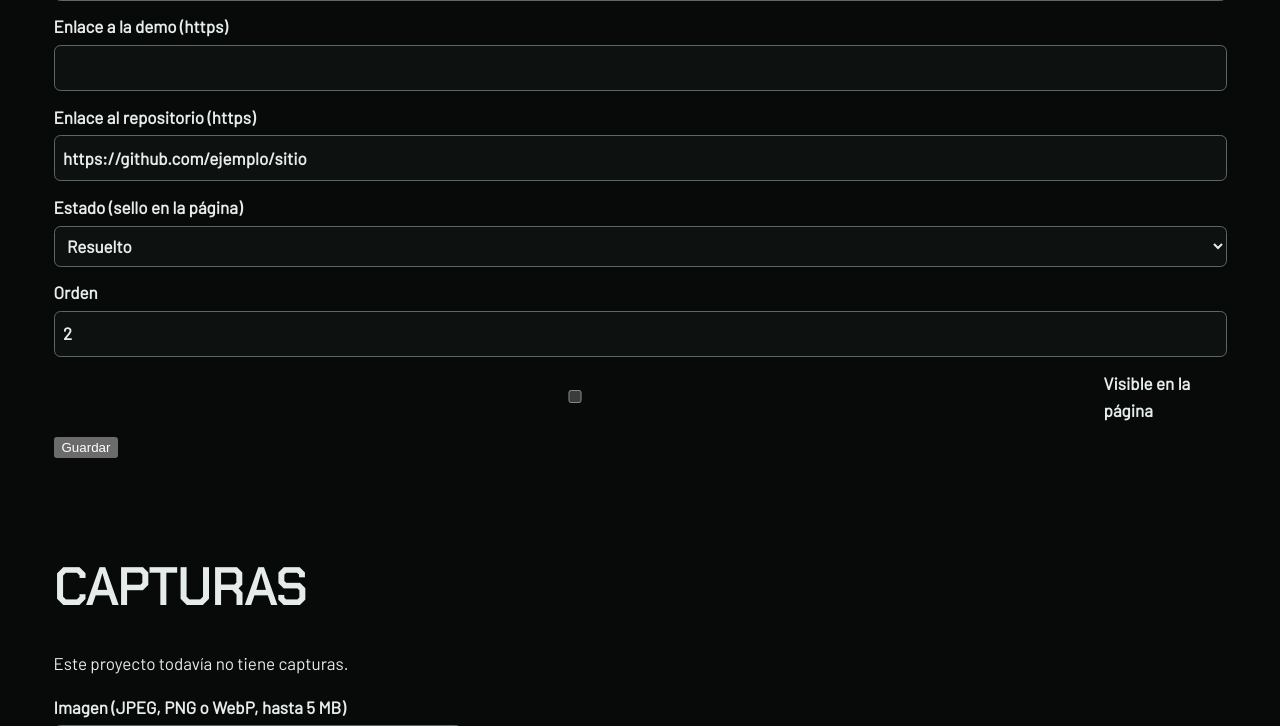
Scenario: projects in the admin panel › editing loads the project and the PUT sends only the editable fields
(page scrolled)
Replace the text in the number field labelled "Orden" with "5" at point(640, 334), box [54, 311, 1226, 357]
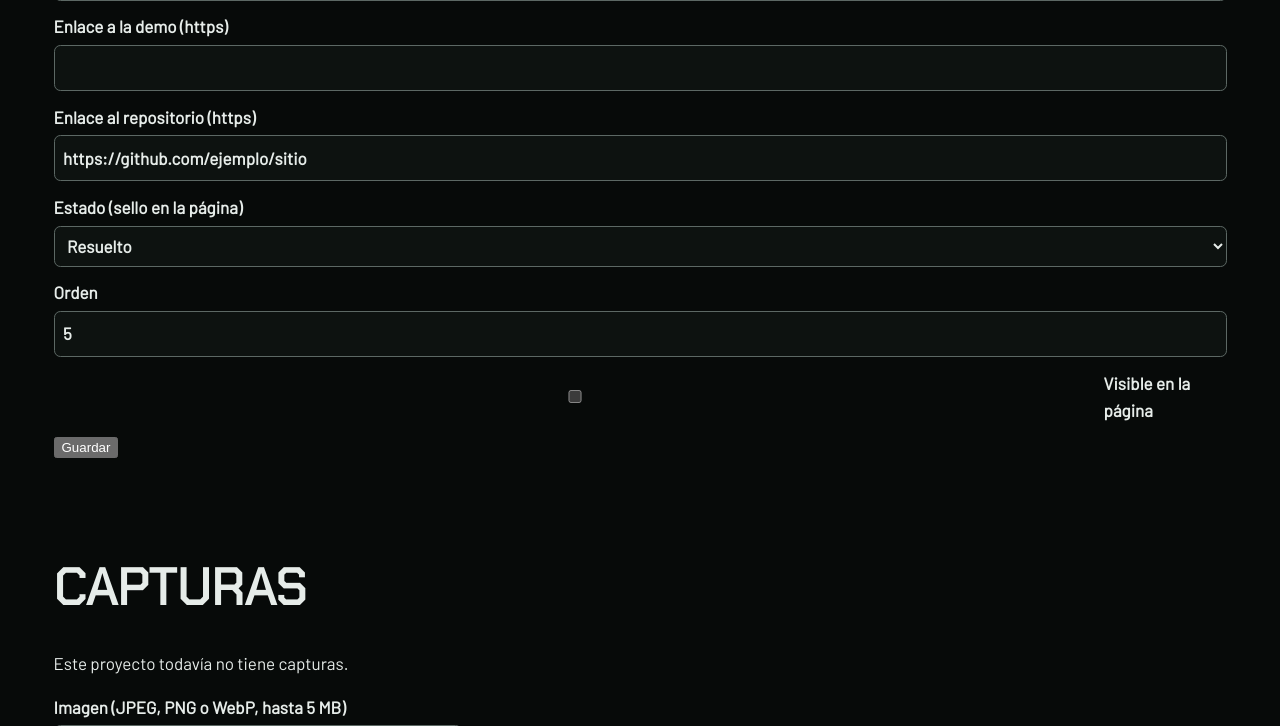
Click the button "Guardar".
click(86, 447)  # box [54, 437, 118, 458]
(page scrolled)
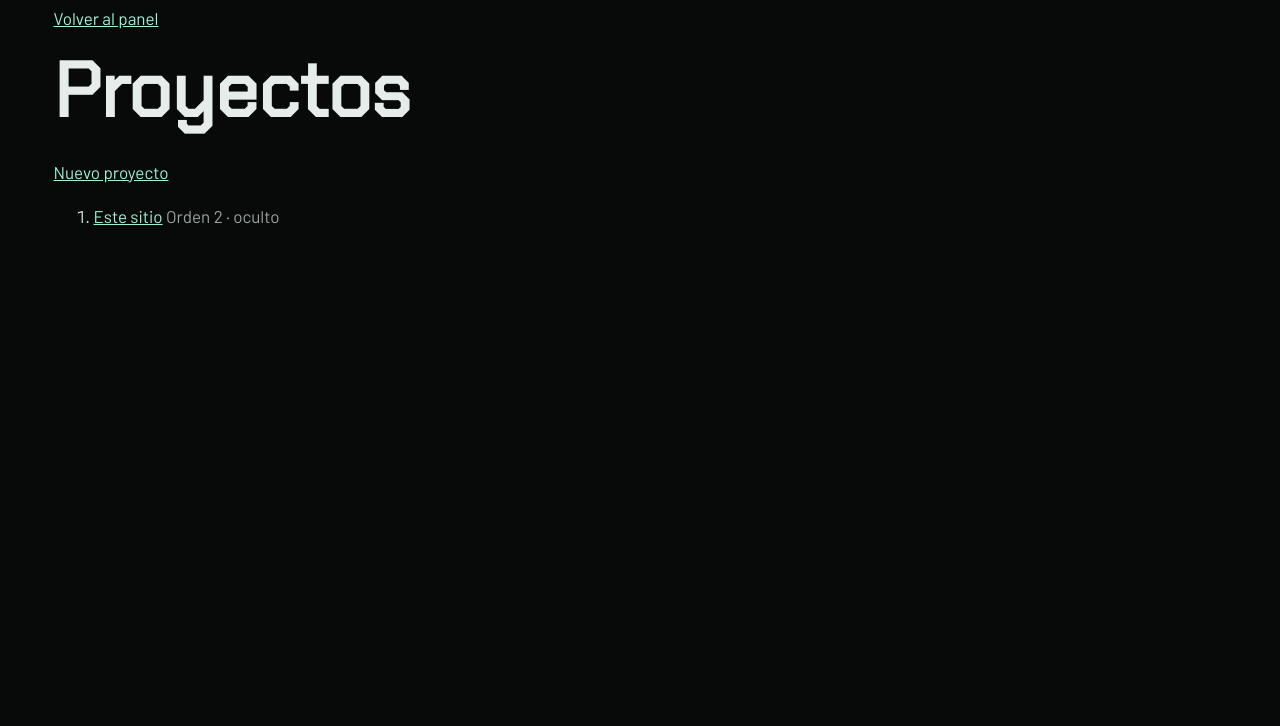
Expected: the heading "Proyectos" is shown, [54, 41, 410, 141]
